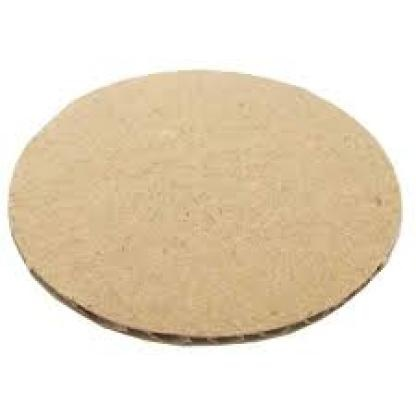trash: (9, 70, 400, 342)
